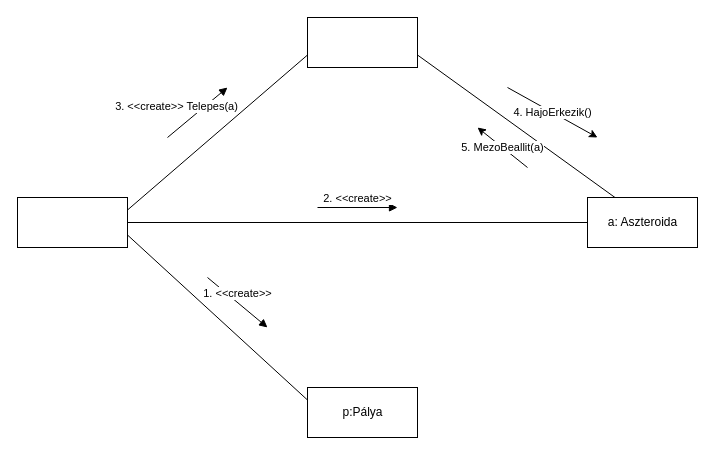
The diagram is 715 pixels wide and 455 high, and some of its shapes have lost their labels. Here are the shapes that lost their labels. From the top down, the centre of each, then its label:
pixel 362 42: t: Telepes
pixel 72 222: SkeletonController
